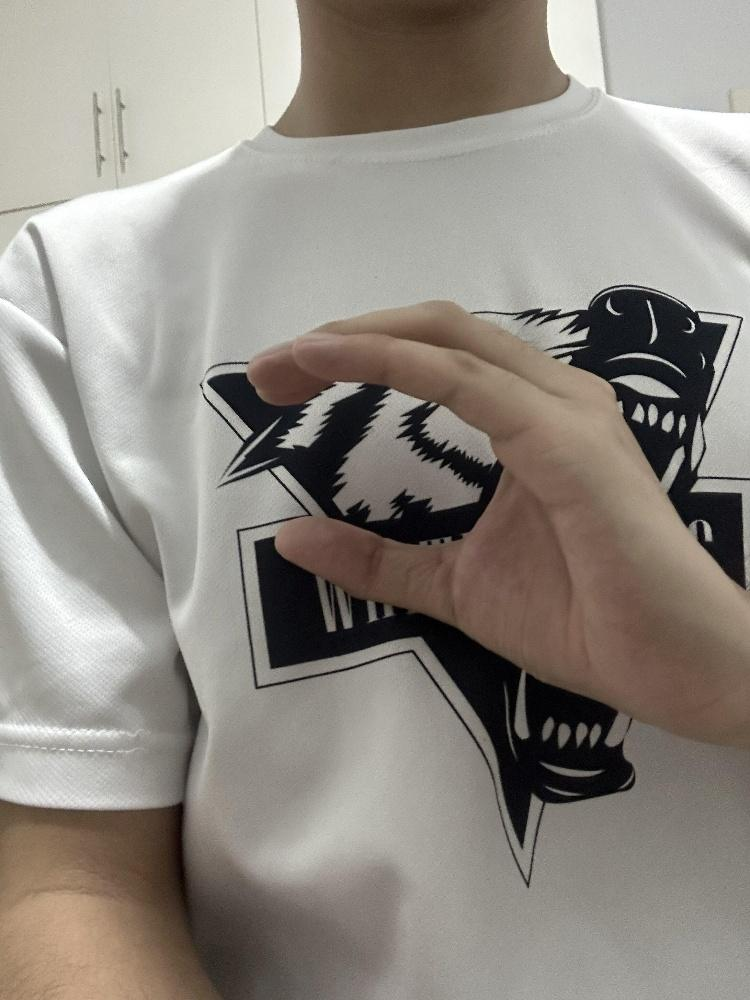c: (242, 295, 745, 731)
